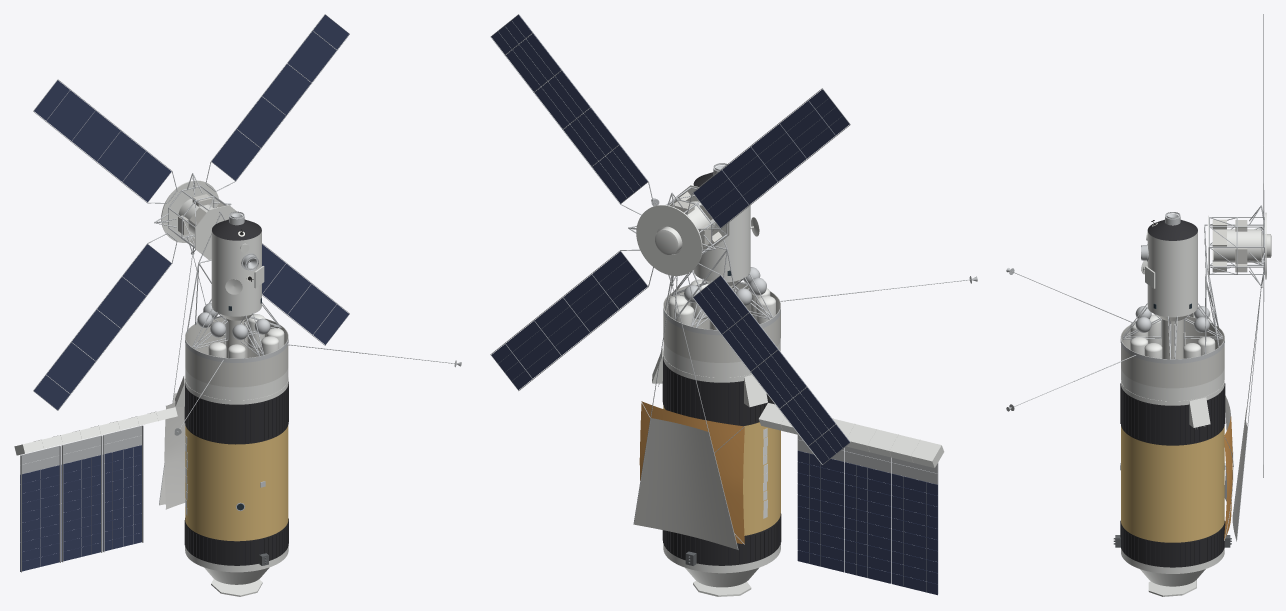
Rendered from workshop.lod1.glb.
3 renders of one model, left to right at view 1: azimuth 30°, elevation 25°; view 2: azimuth 150°, elevation 25°; view 3: azimuth 270°, elevation 25°, orthographic. The views are drawn at different scales.
Parts seen in each view (by area): view 1: SAS_Wing1_Cells, OWS_HabitationWall, OWS_AftSkirtInner, ATM_Wing_3_Cells, ATM_Wing_1_Cells, ATM_Wing_4_Cells, SAS_Wing1_ModuleLines, ATM_Wing_2_Cells, FAS_InnerWallAndForwardDome, MDA_EarthObservationKit, ATM_Canister, Parasol_Underside (+12 smaller); view 2: SAS_Wing1_Cells, Sail_Cloth, ATM_Wing_3_Cells, ATM_Wing_1_Cells, ATM_Wing_2_Cells, ATM_Wing_4_Cells, OWS_AftSkirtInner, ATM_Canister, Parasol_Canopy, OWS_HabitationWall, SAS_Wing1_BeamFairing, SAS_Wing1_ModuleLines (+13 smaller); view 3: OWS_HabitationWall, OWS_AftSkirtInner, FAS_InnerWallAndForwardDome, MDA_EarthObservationKit, ATM_Canister, AM_Bellows, FAS_OxygenTanks, IU_Skin, OWS_SkirtBands, ATM_Outriggers, OWS_RefrigerationRadiator, ATM_RackEquipment (+9 smaller).
Part boxes in pixels (x1,y1,x2,y2): SAS_Wing1_Cells: [20, 445, 141, 571]; OWS_HabitationWall: [185, 425, 288, 541]; OWS_AftSkirtInner: [184, 382, 288, 565]; ATM_Wing_3_Cells: [34, 244, 171, 409]; ATM_Wing_1_Cells: [211, 15, 348, 180]; ATM_Wing_4_Cells: [34, 80, 171, 202]; SAS_Wing1_ModuleLines: [20, 425, 143, 572]; ATM_Wing_2_Cells: [262, 244, 348, 344]; FAS_InnerWallAndForwardDome: [185, 316, 288, 387]; MDA_EarthObservationKit: [211, 230, 264, 299]; ATM_Canister: [161, 180, 239, 259]; Parasol_Underside: [164, 402, 185, 509]; SAS_Wing1_Cells: [797, 450, 937, 595]; Sail_Cloth: [634, 418, 737, 549]; ATM_Wing_3_Cells: [693, 275, 849, 464]; ATM_Wing_1_Cells: [491, 15, 647, 203]; ATM_Wing_2_Cells: [491, 251, 647, 389]; ATM_Wing_4_Cells: [693, 89, 849, 227]; OWS_AftSkirtInner: [662, 357, 781, 565]; ATM_Canister: [636, 185, 729, 275]; Parasol_Canopy: [639, 401, 744, 543]; OWS_HabitationWall: [663, 405, 780, 535]; SAS_Wing1_BeamFairing: [758, 403, 944, 467]; SAS_Wing1_ModuleLines: [797, 435, 938, 593]; OWS_HabitationWall: [1121, 426, 1224, 542]; OWS_AftSkirtInner: [1120, 383, 1225, 567]; FAS_InnerWallAndForwardDome: [1121, 316, 1224, 388]; MDA_EarthObservationKit: [1141, 231, 1197, 300]; ATM_Canister: [1208, 212, 1271, 279]; AM_Bellows: [1122, 303, 1222, 359]; FAS_OxygenTanks: [1130, 314, 1215, 358]; IU_Skin: [1121, 368, 1224, 401]; OWS_SkirtBands: [1121, 382, 1224, 573]; ATM_Outriggers: [1209, 205, 1264, 285]; OWS_RefrigerationRadiator: [1140, 569, 1205, 596]; ATM_RackEquipment: [1212, 219, 1247, 272].
Size of the model in its own units: 26.73 by 35.71 by 16.89.
